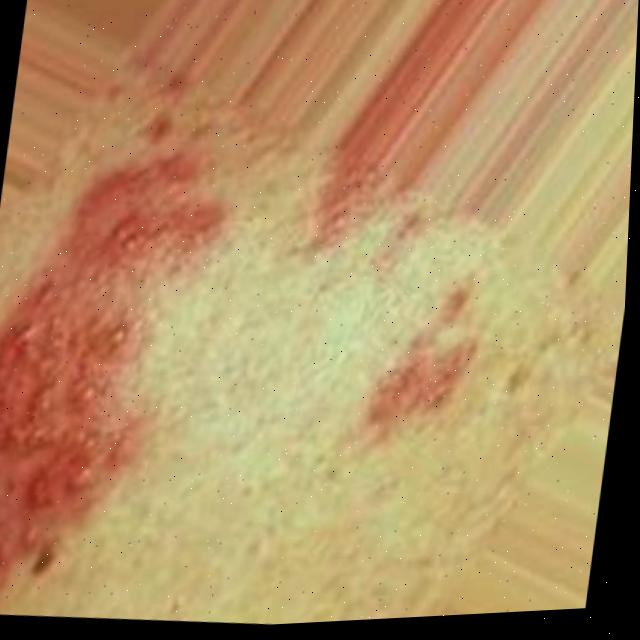Shingles: (0, 129, 227, 630), (353, 276, 487, 453)
